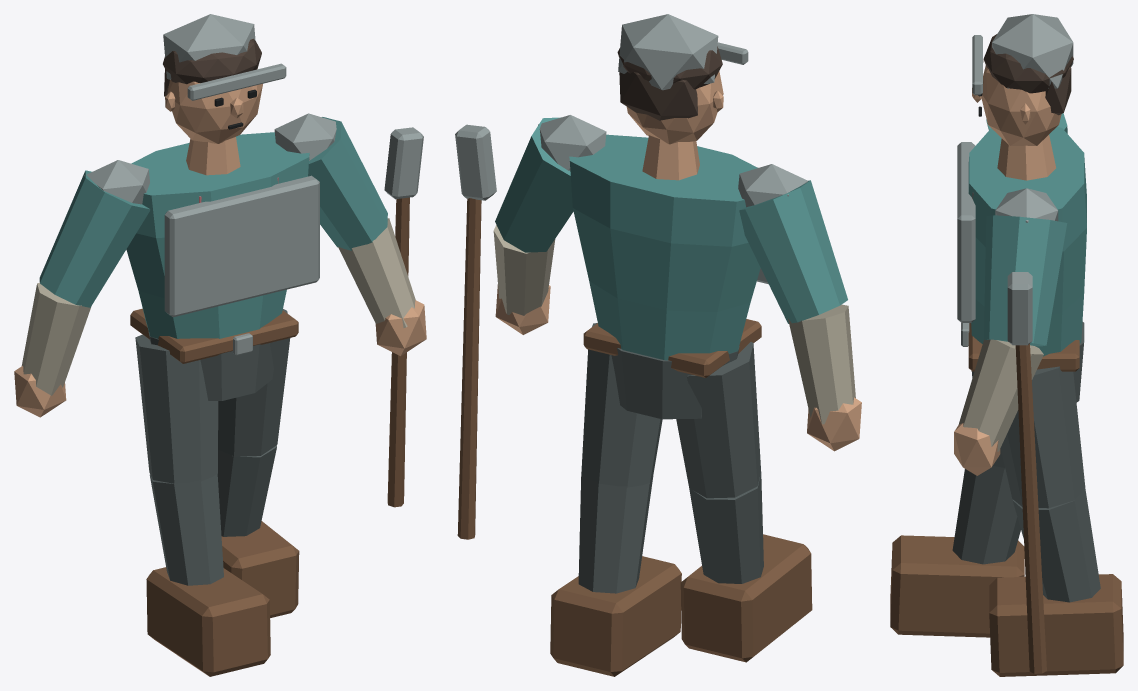
Rendered from npc_guard_step_l_v01.glb.
3 renders of one model, left to right at view 1: azimuth 30°, elevation 25°; view 2: azimuth 150°, elevation 25°; view 3: azimuth 270°, elevation 25°, orthographic. The views are drawn at different scales.
Visible parts, largest first — view 1: GEO_npc_guard_step_l_v01; view 2: GEO_npc_guard_step_l_v01; view 3: GEO_npc_guard_step_l_v01.
Boxes of the visible parts, bbox=[...] form: GEO_npc_guard_step_l_v01: bbox=[14, 14, 426, 676]; GEO_npc_guard_step_l_v01: bbox=[455, 14, 861, 676]; GEO_npc_guard_step_l_v01: bbox=[890, 14, 1123, 676].
Bounding box in the file's own units: 1.43 × 2.11 × 0.7076.
